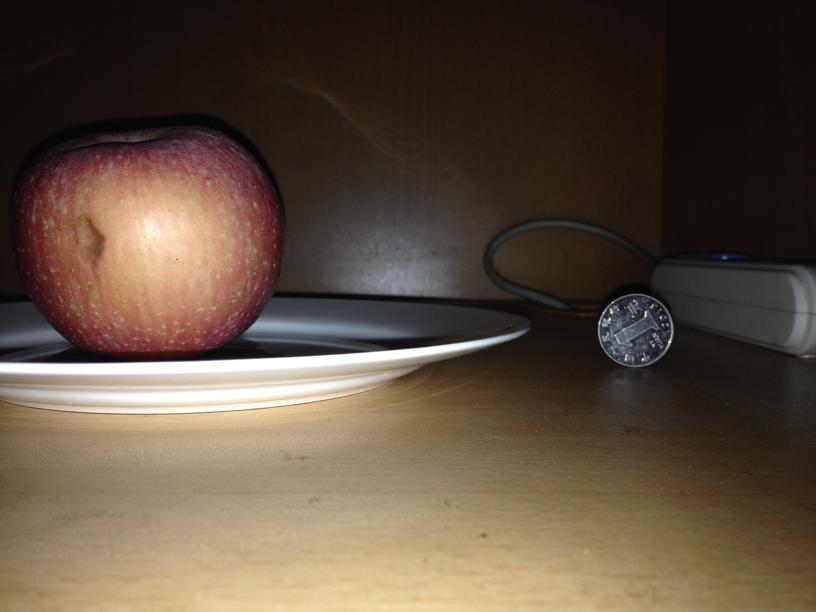apple: (15, 124, 281, 356)
coin: (599, 291, 675, 368)
